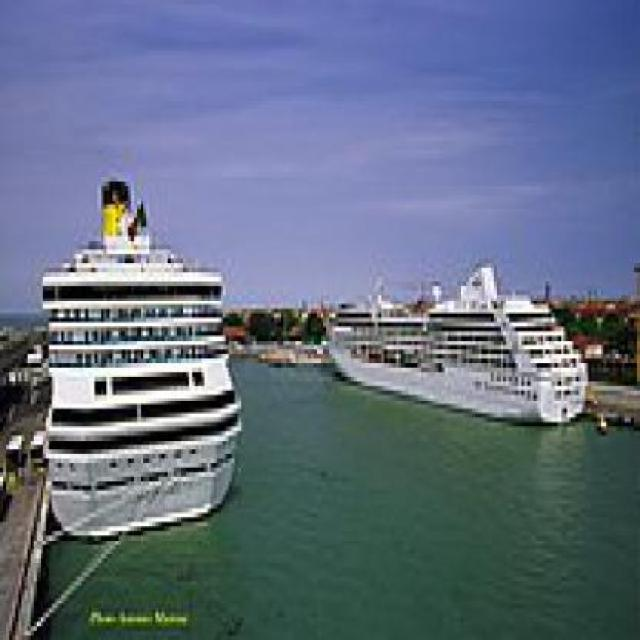cruise: (25, 164, 263, 541), (323, 246, 602, 450)
